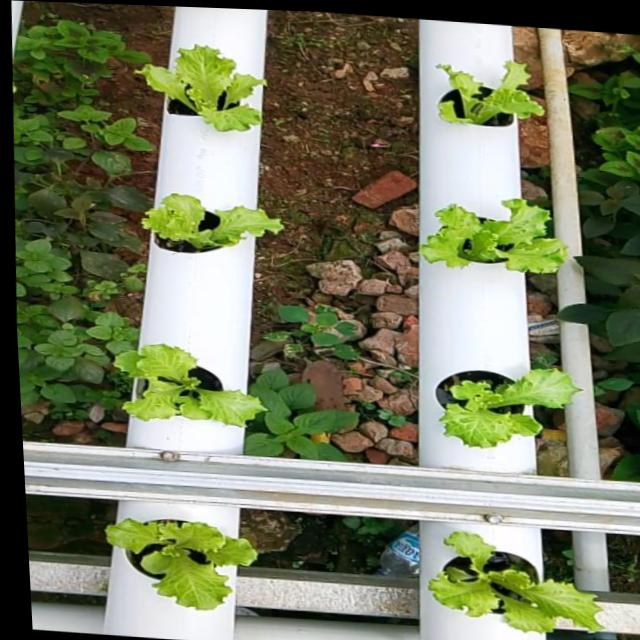Baby: (435, 524, 610, 625), (111, 498, 262, 606), (120, 340, 274, 424), (436, 367, 582, 447), (420, 198, 570, 273), (138, 45, 268, 131), (143, 192, 286, 252), (439, 62, 546, 127)
